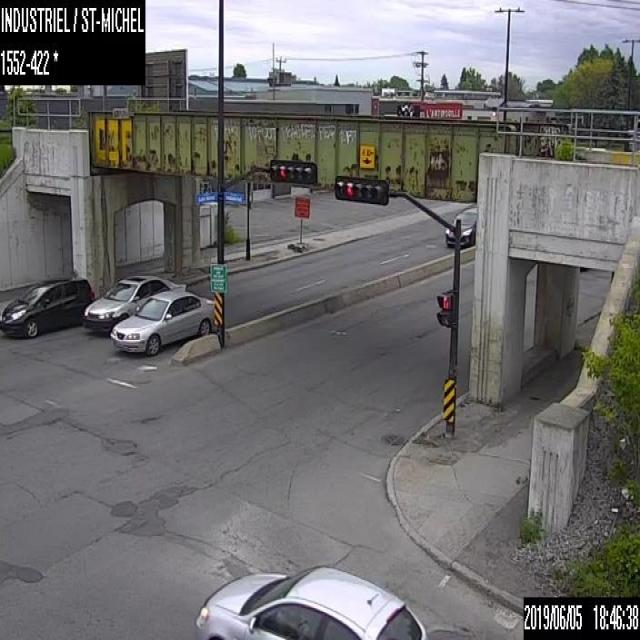construction: (290, 194, 310, 252)
vehicle: (195, 561, 427, 639), (110, 288, 216, 354), (82, 273, 186, 334), (0, 275, 94, 340), (444, 207, 476, 248)
